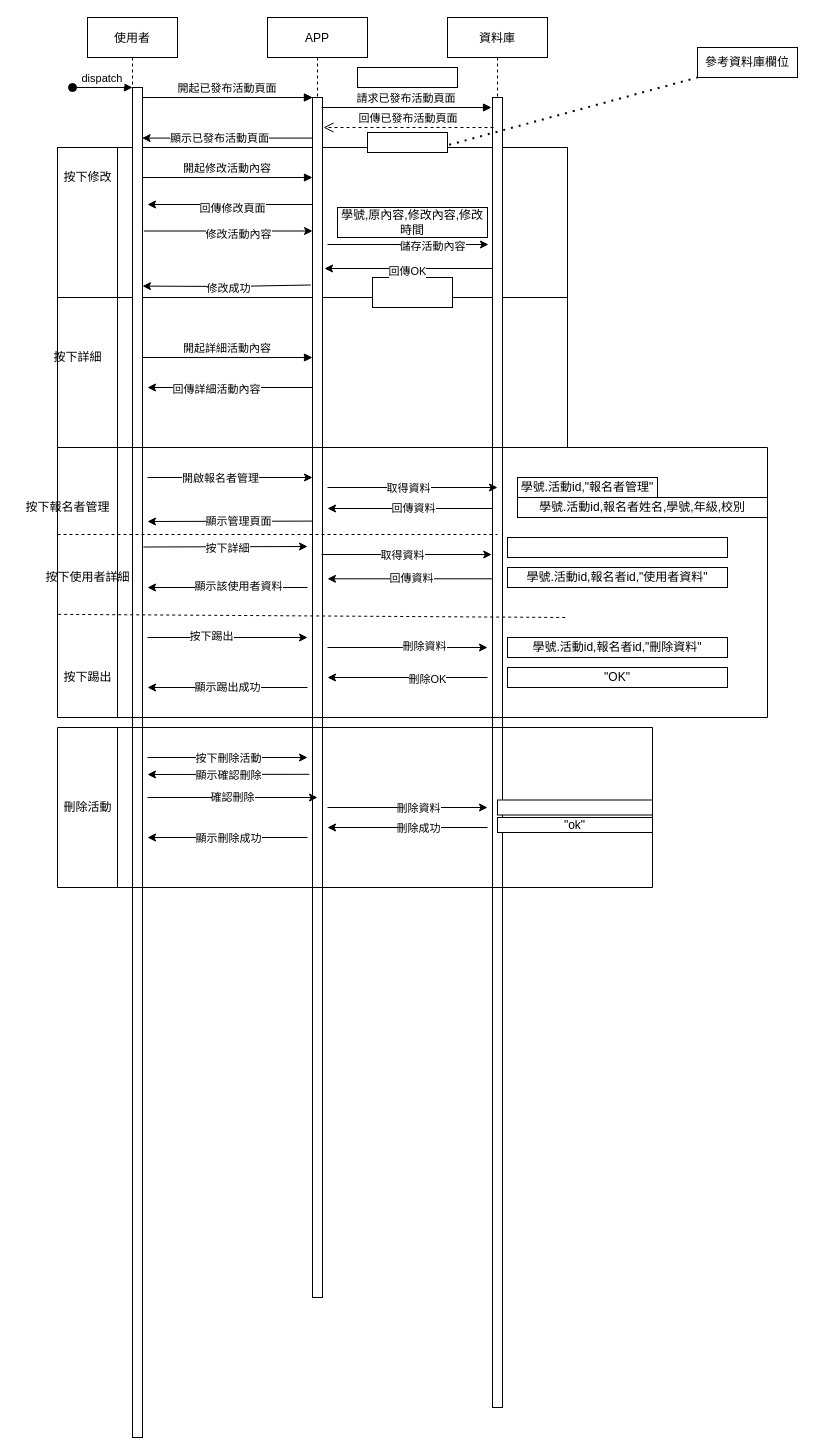
Image size: 815x1455. Some labels were removed from this diagram. The shapes that lost their labels are listed below. From the top down, each one's box as (x1, y1, x2, y2) in pixels, then its label:
(356, 66, 458, 88): 學號,"已發布活 動"
(366, 132, 448, 152): 已發布活動
(372, 276, 452, 308): value "OK"
(506, 536, 728, 558): 學號.活動id,報名者id,"使用者詳細"
(496, 799, 652, 815): 學號,活動id,"刪除活動"
